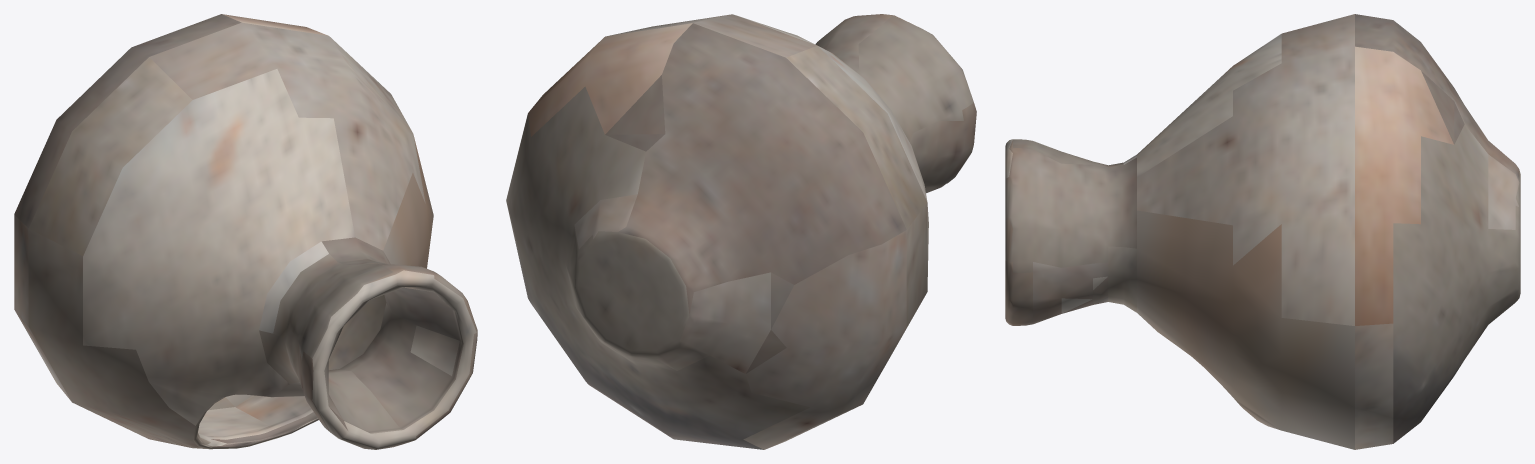
The model's file is doki-color.glb.
3 renders of one model, left to right at view 1: azimuth 30°, elevation 25°; view 2: azimuth 150°, elevation 25°; view 3: azimuth 270°, elevation 25°, orthographic. The views are drawn at different scales.
Parts seen in each view (by area): view 1: ________________01; view 2: ________________01; view 3: ________________01.
Part boxes in pixels (box(x1,y1,x2,y2)): ________________01: box(14, 14, 477, 449); ________________01: box(506, 14, 976, 449); ________________01: box(1005, 14, 1520, 449).
Size of the model in its own units: 0.2541 by 0.2559 by 0.3023.
1 material, 1 textured.
